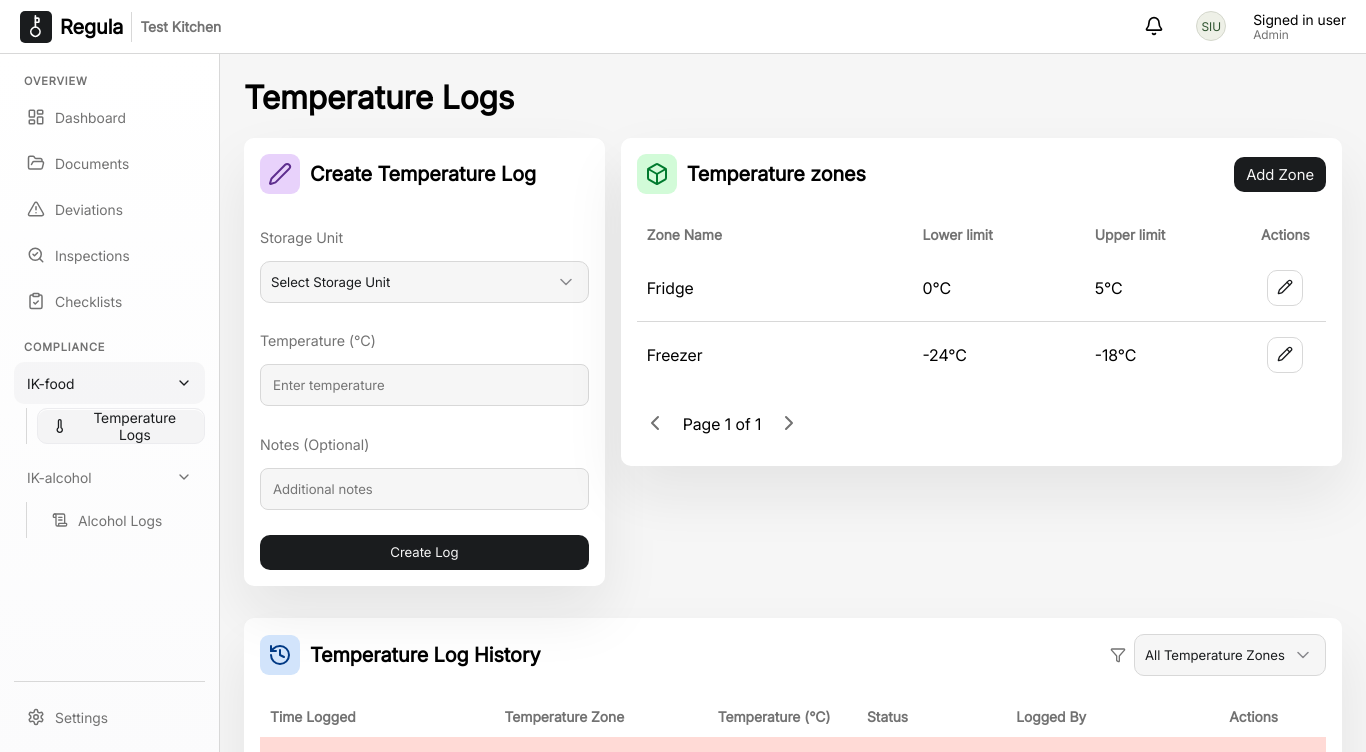
TemperatureLogView › creates a temperature log and prepends it to the history
Select "Fridge" in the dropdown named "Select storage unit". click: (425, 282)
box: [260,261,589,303]
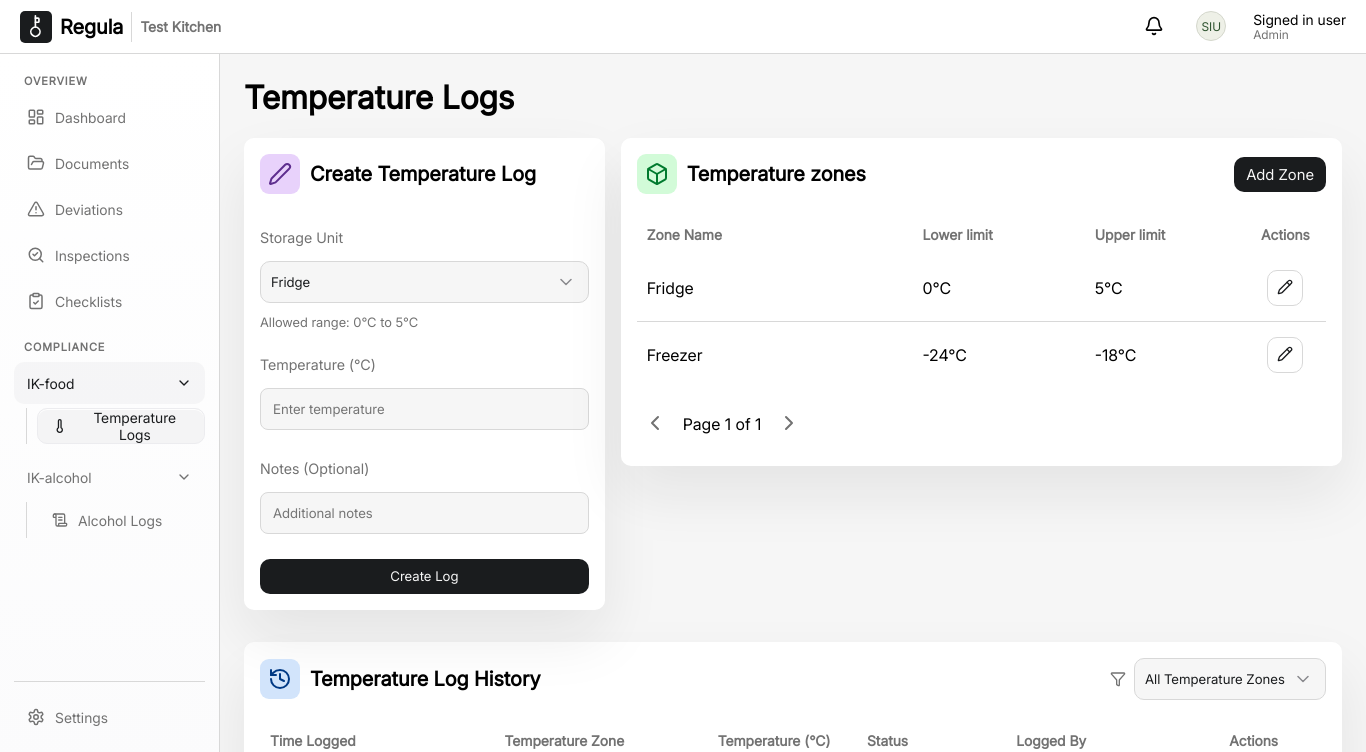
Type "4" into the number field with placeholder "Enter temperature". click: (425, 409)
box: [260,388,589,430]
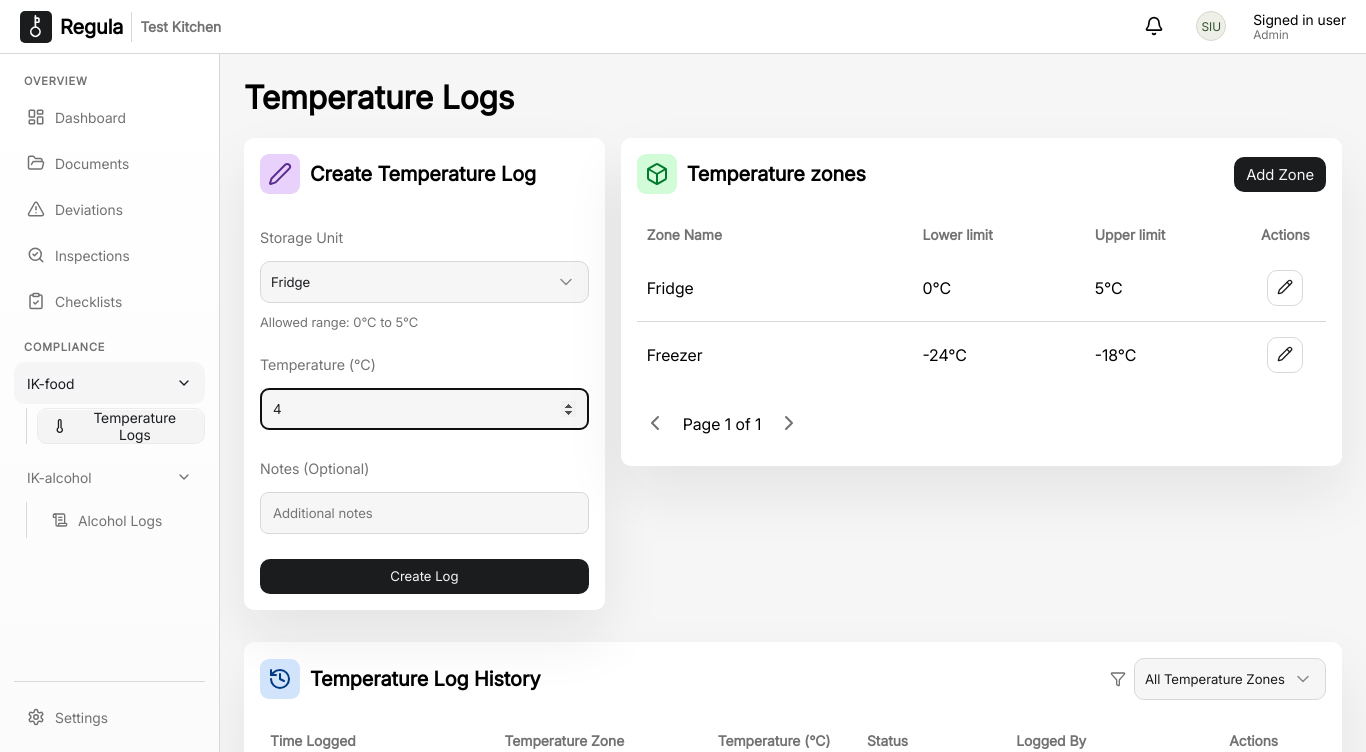
Type "After delivery" into the field with placeholder "Additional notes". click: (425, 513)
box: [260,492,589,534]
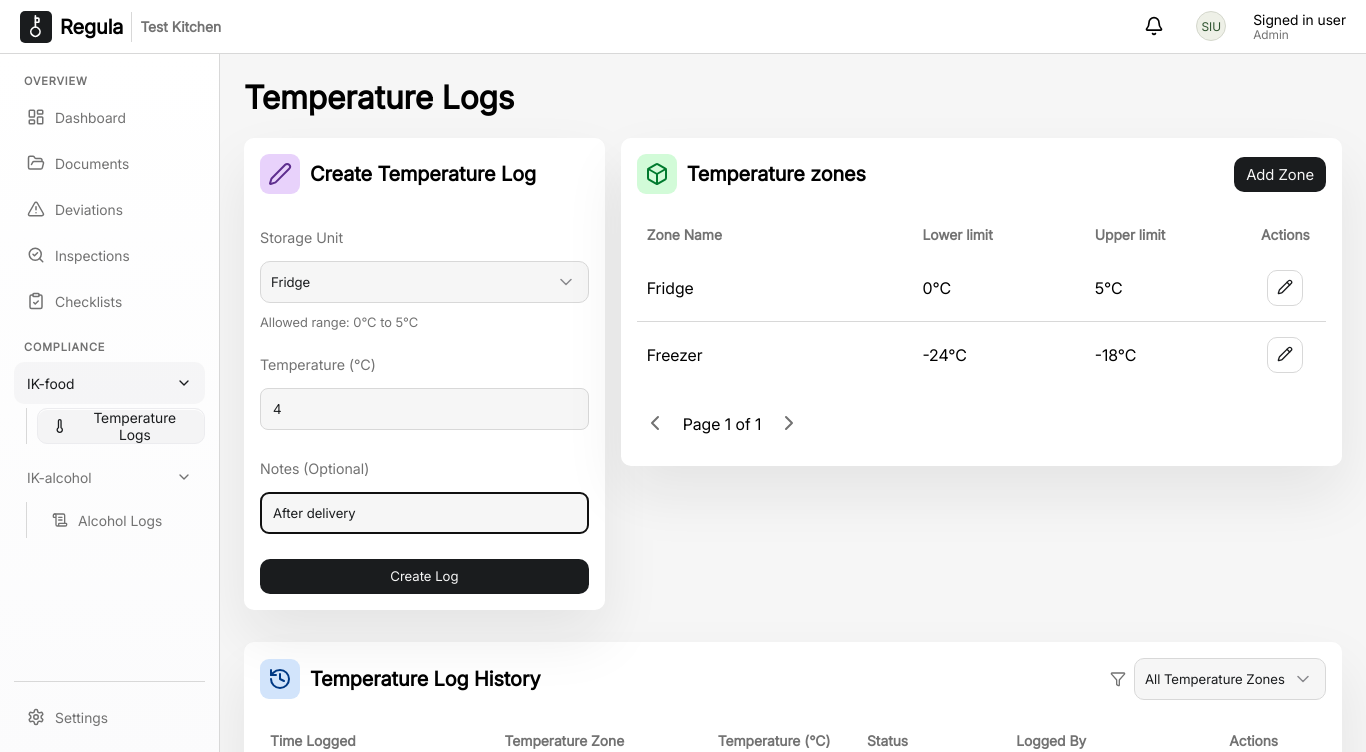
Click the button "Create Log". click: (425, 577)
box: [260,559,589,594]
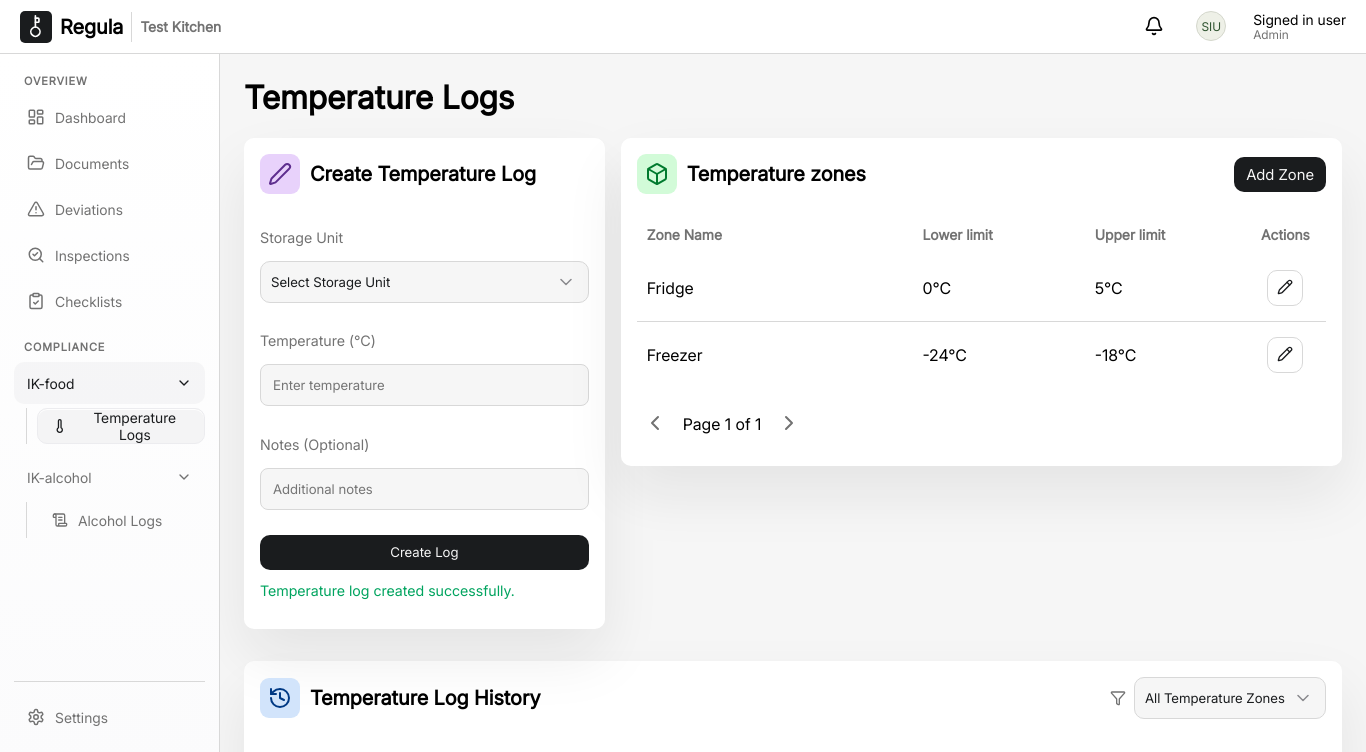
expect the text "Temperature log created successfully." is shown: met, box [260,582,515,599]
